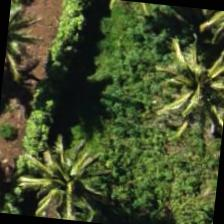Kelapa_Sawit: (17, 126, 117, 223), (153, 31, 223, 129)
